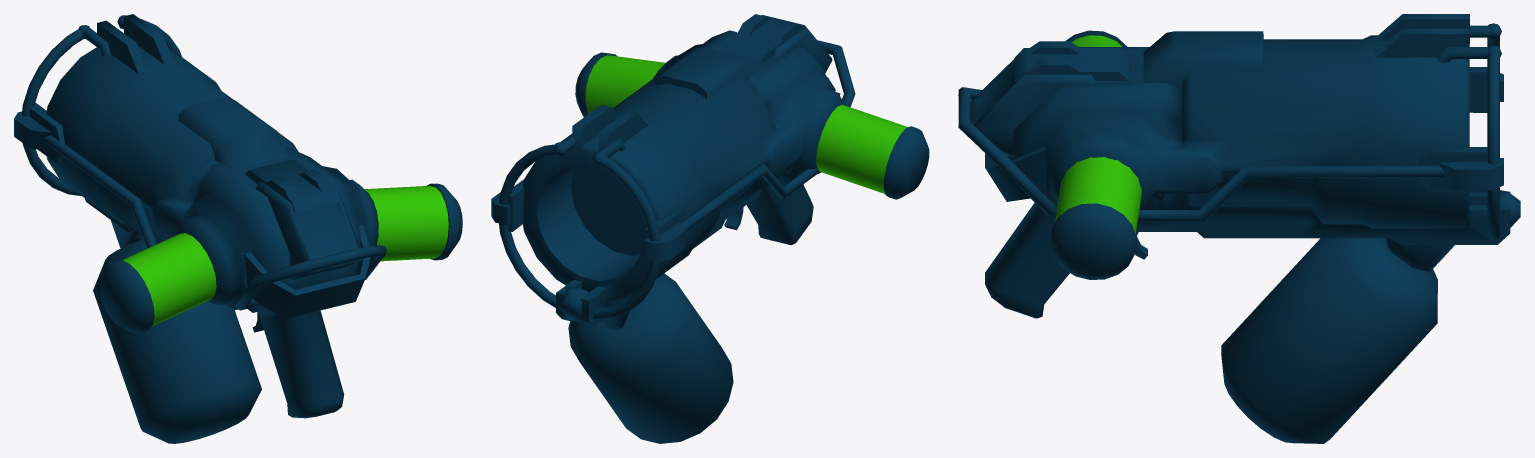
The model's file is Weapon_Fireballer.fbx.
3 views of the same model, side by side, from view 1: azimuth 30°, elevation 25°; view 2: azimuth 150°, elevation 25°; view 3: azimuth 270°, elevation 25° (orthographic). The views are drawn at different scales.
Parts seen in each view (by area): view 1: Main_Weapon, Canister_01, Canister_02; view 2: Main_Weapon, Canister_01, Canister_02; view 3: Main_Weapon, Canister_02, Canister_01.
Part boxes in pixels (x1=…): Main_Weapon: x1=14, y1=14, x2=386, y2=443; Canister_01: x1=100, y1=233, x2=216, y2=333; Canister_02: x1=365, y1=183, x2=462, y2=261; Main_Weapon: x1=491, y1=14, x2=855, y2=443; Canister_01: x1=816, y1=104, x2=929, y2=199; Canister_02: x1=575, y1=52, x2=665, y2=117; Main_Weapon: x1=958, y1=14, x2=1520, y2=443; Canister_02: x1=1050, y1=157, x2=1141, y2=279; Canister_01: x1=1065, y1=30, x2=1127, y2=46.
Bounding box in the file's own units: 113 × 115 × 142.
